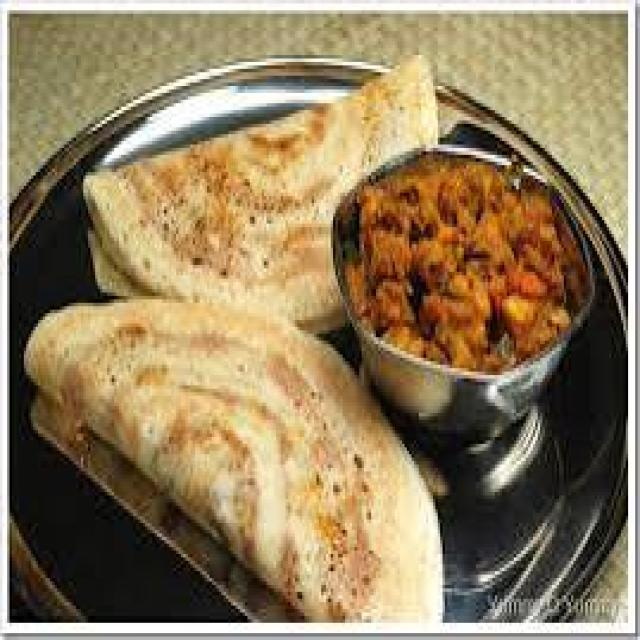CURRY: (333, 152, 597, 385)
DOSA: (37, 34, 455, 624)
